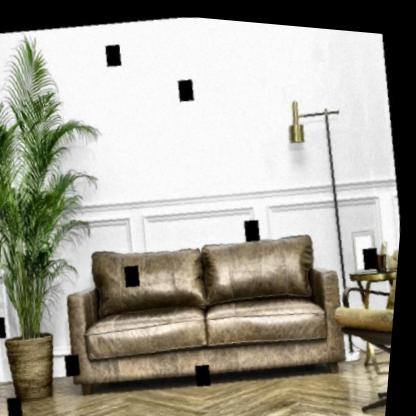Sofa: (62, 219, 356, 393)
Wooden floor: (6, 341, 395, 416)
